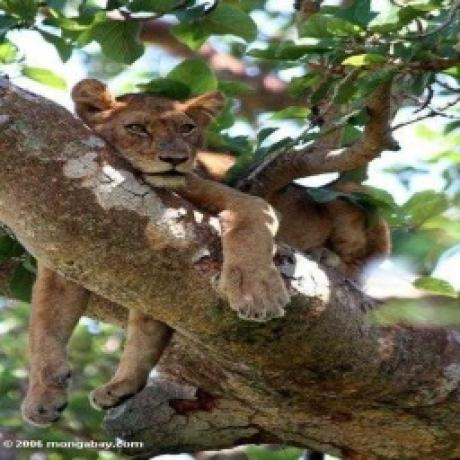Lion: (29, 74, 391, 401)
